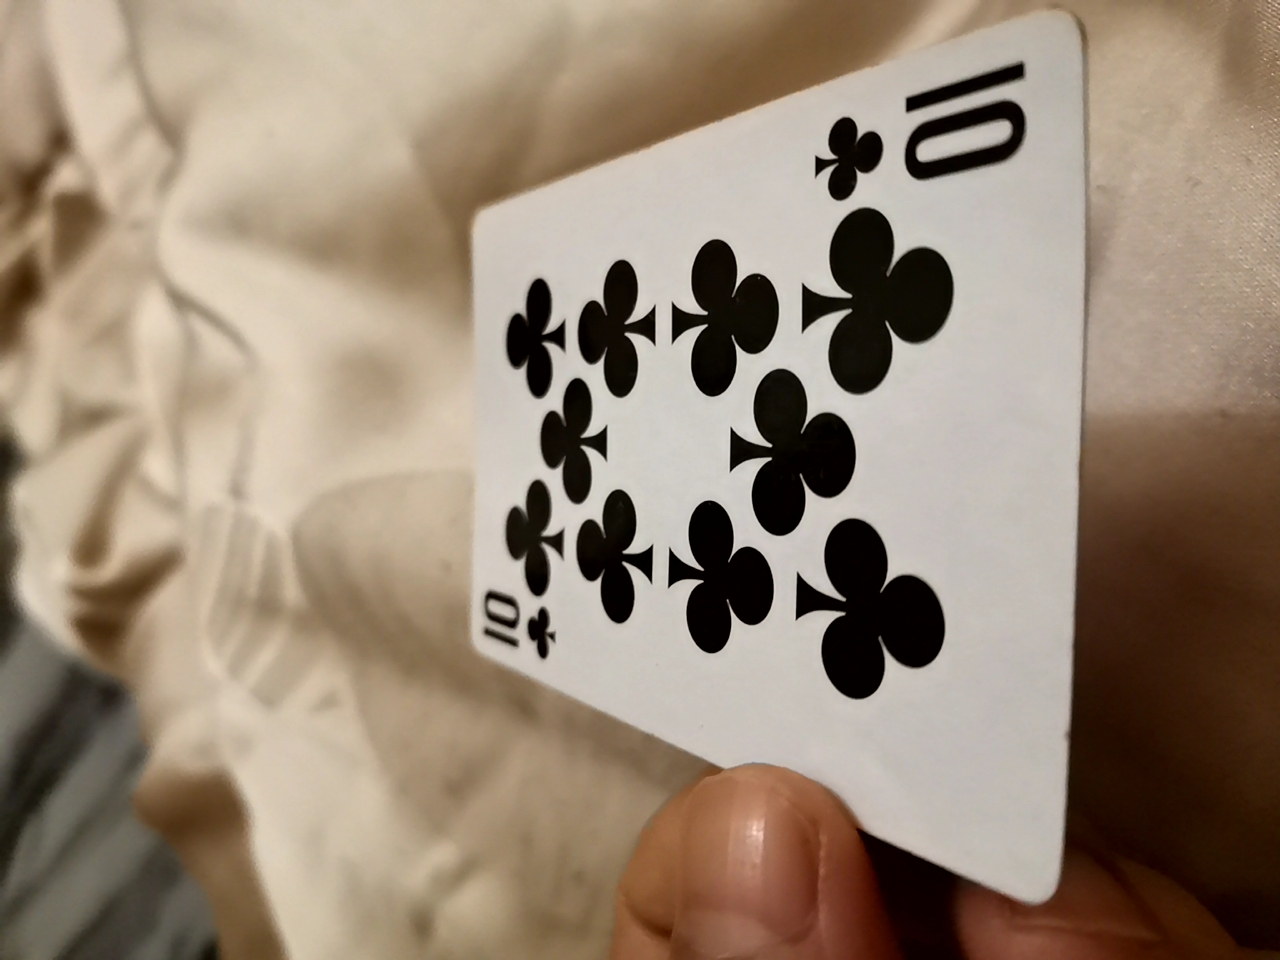mh 10: (446, 19, 1077, 901)
